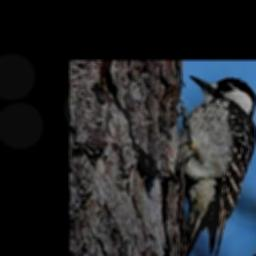Woodpecker: (157, 75, 256, 256)
